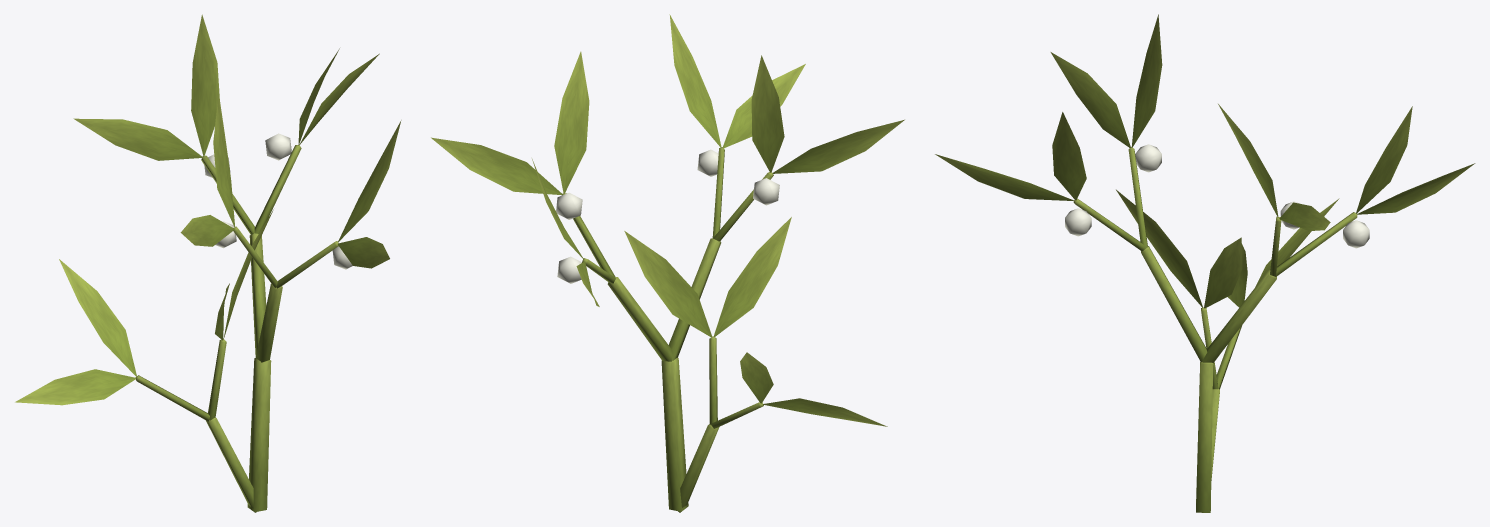
The model's file is mistletoeitem.glb.
3 views of the same model, side by side, from view 1: azimuth 30°, elevation 25°; view 2: azimuth 150°, elevation 25°; view 3: azimuth 270°, elevation 25° (orthographic). The views are drawn at different scales.
Visible parts, largest first — view 1: mistletoeitem; view 2: mistletoeitem; view 3: mistletoeitem.
Boxes of the visible parts, x1,y1,x2,y2 form: mistletoeitem: [15, 14, 401, 512]; mistletoeitem: [431, 14, 904, 512]; mistletoeitem: [935, 14, 1475, 512].
Bounding box in the file's own units: 0.2047 × 0.2145 × 0.2255.
1 material, 1 textured.
